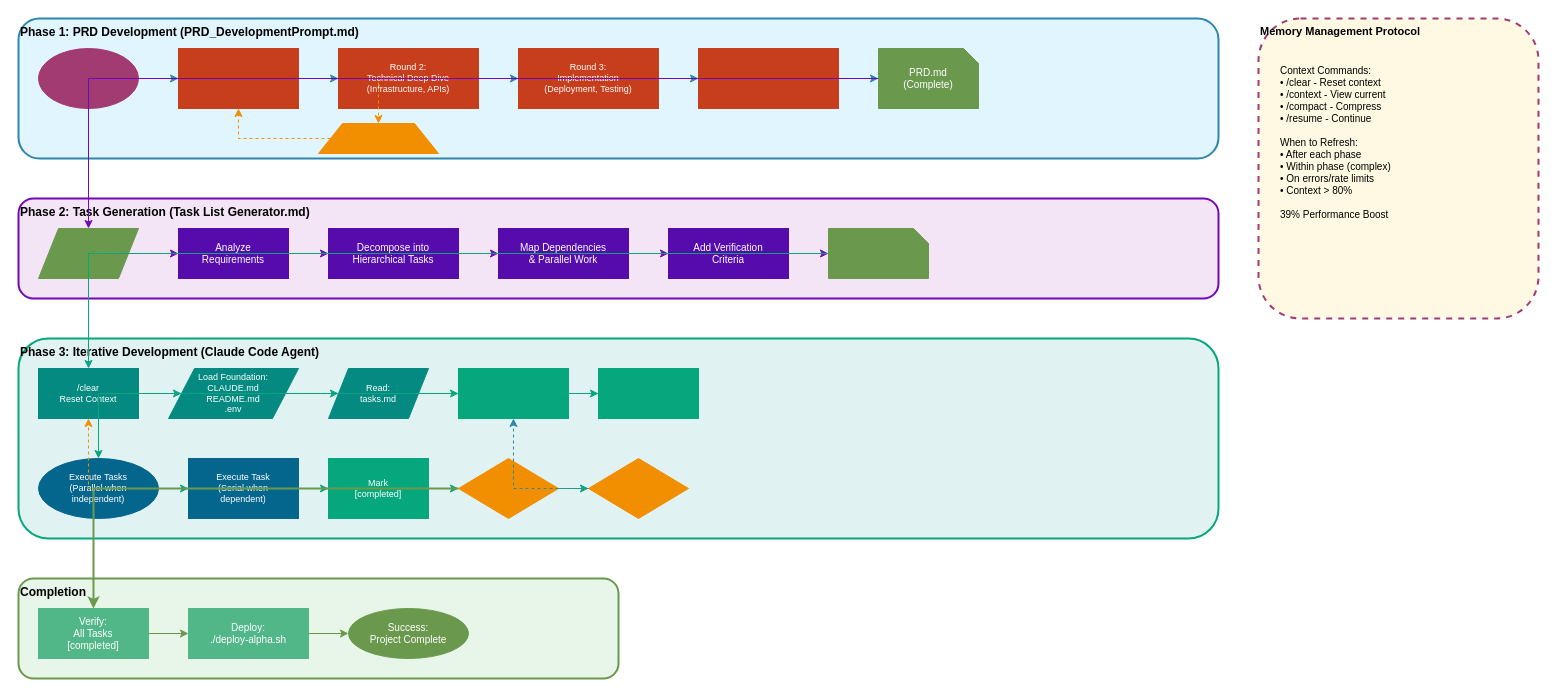
This 1556x696 diagram has some shape labels left out. Here are the shapes that lost their labels. From the top down, the centre of each, then its label:
At (88,78): "Start: Project Concept".
At (238,78): "Round 1: Foundation (Personas, AWS)".
At (768,78): "Round 4: Claude Optimization (Task Decomposition)".
At (378,138): "Stakeholder Consultation".
At (88,253): "Input: PRD.md".
At (878,253): "tasks.md [pending] Hierarchical".
At (513,393): "Select Task(s) from tasks.md".
At (648,393): "Mark [in-progress]".
At (508,488): "Phase Complete?".
At (638,488): "Context Refresh Needed?".
